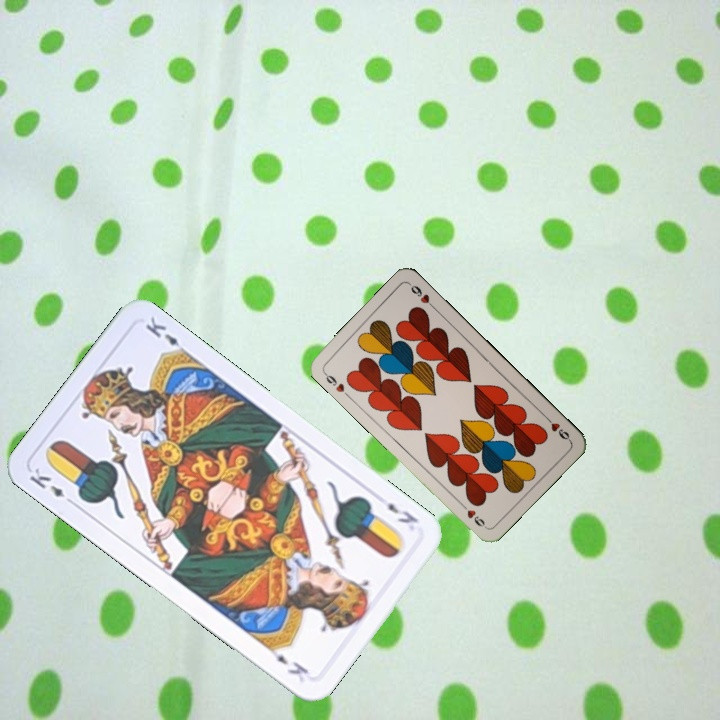EK: (25, 463, 78, 508), (383, 498, 421, 526)
H9: (540, 412, 573, 444), (319, 368, 347, 395)
